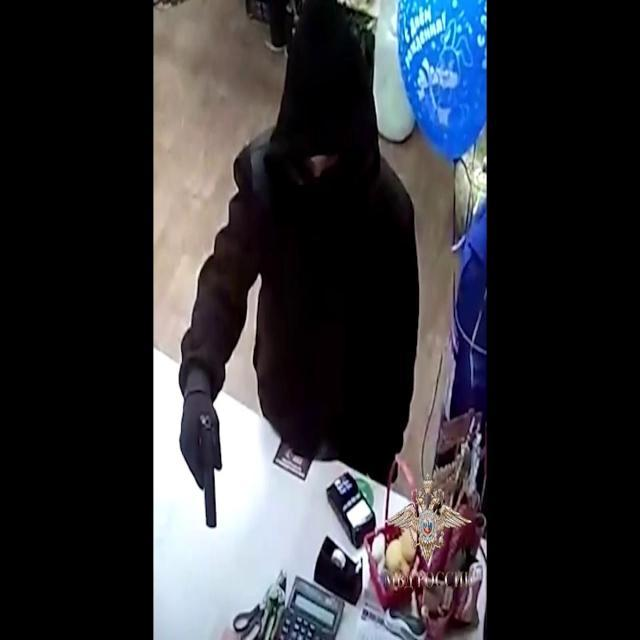pistol: (180, 389, 226, 532)
